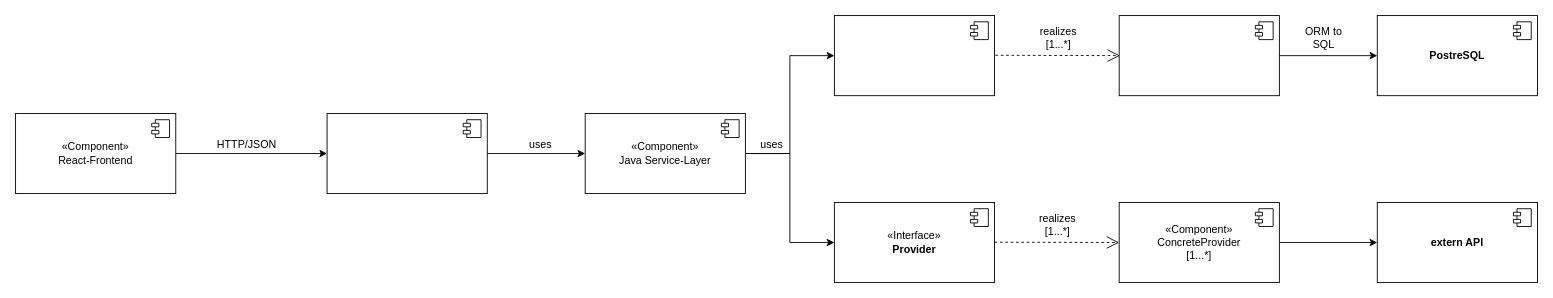
This 1553x298 diagram has some shape labels left out. The shapes that lost their labels are listed below. From the top down, each one's centre as x and y in pixels, then its label:
At (x=914, y=55): "«Interface» Repository".
At (x=1198, y=55): "«Component» ConcreteRepository [1...*]".
At (x=406, y=153): "«Component» REST-Controller".
